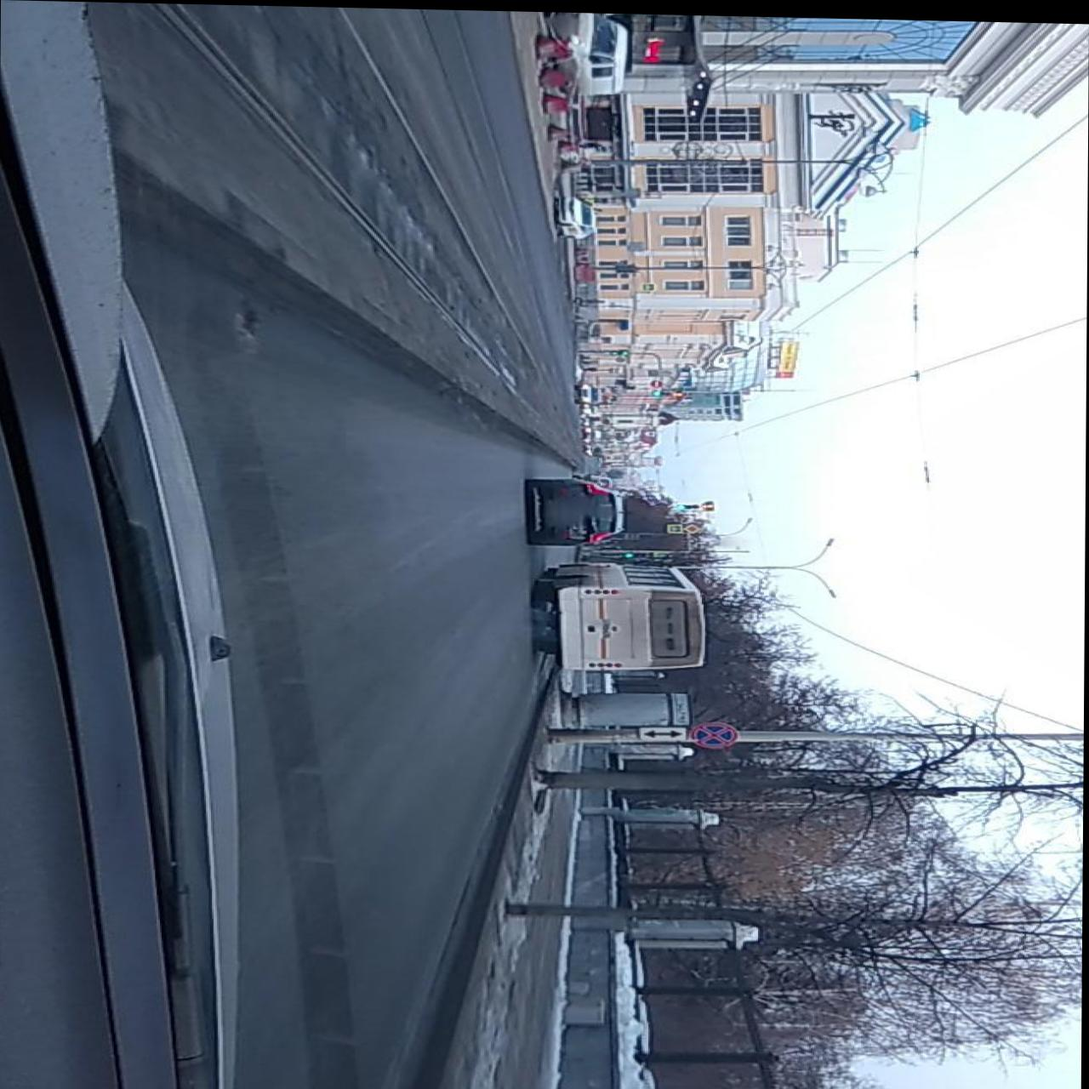bus: (529, 553, 715, 675)
